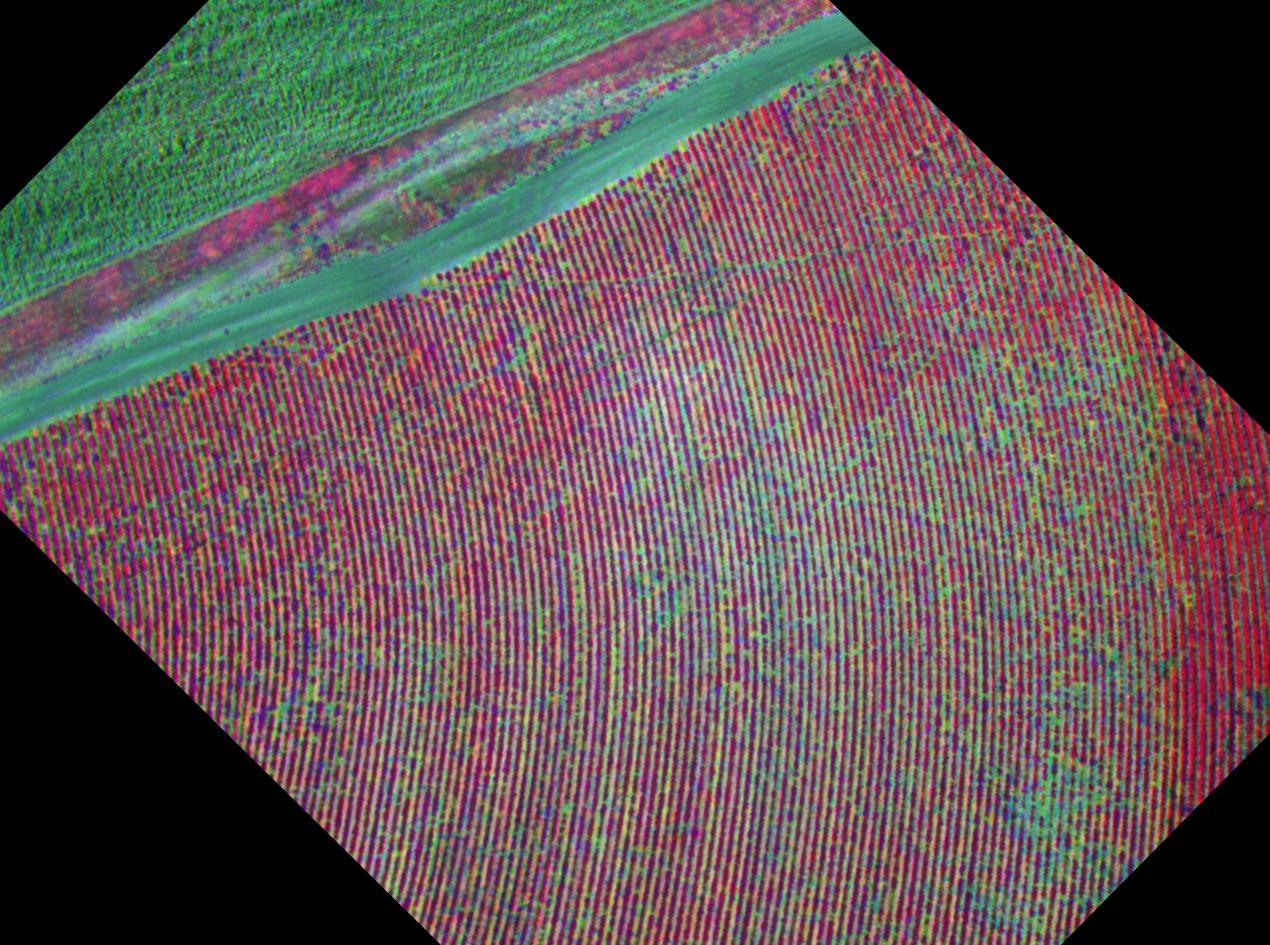dc: (414, 288, 420, 294), (240, 555, 244, 560), (1000, 438, 1004, 442), (626, 448, 630, 452), (1077, 507, 1081, 511), (681, 240, 684, 244), (562, 263, 566, 266), (693, 307, 696, 311), (296, 347, 299, 351), (237, 490, 240, 494), (1110, 358, 1113, 361)
